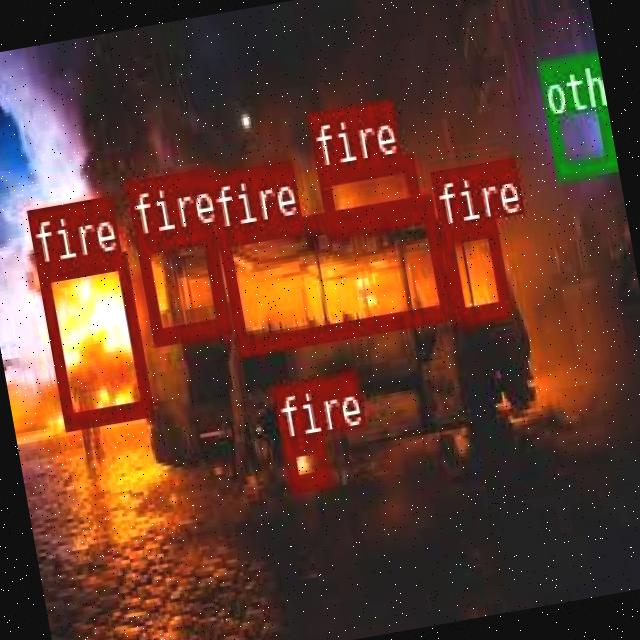fire: (216, 194, 449, 352), (34, 248, 150, 426), (133, 222, 229, 343), (316, 152, 420, 234), (437, 217, 508, 321), (279, 433, 328, 488)
